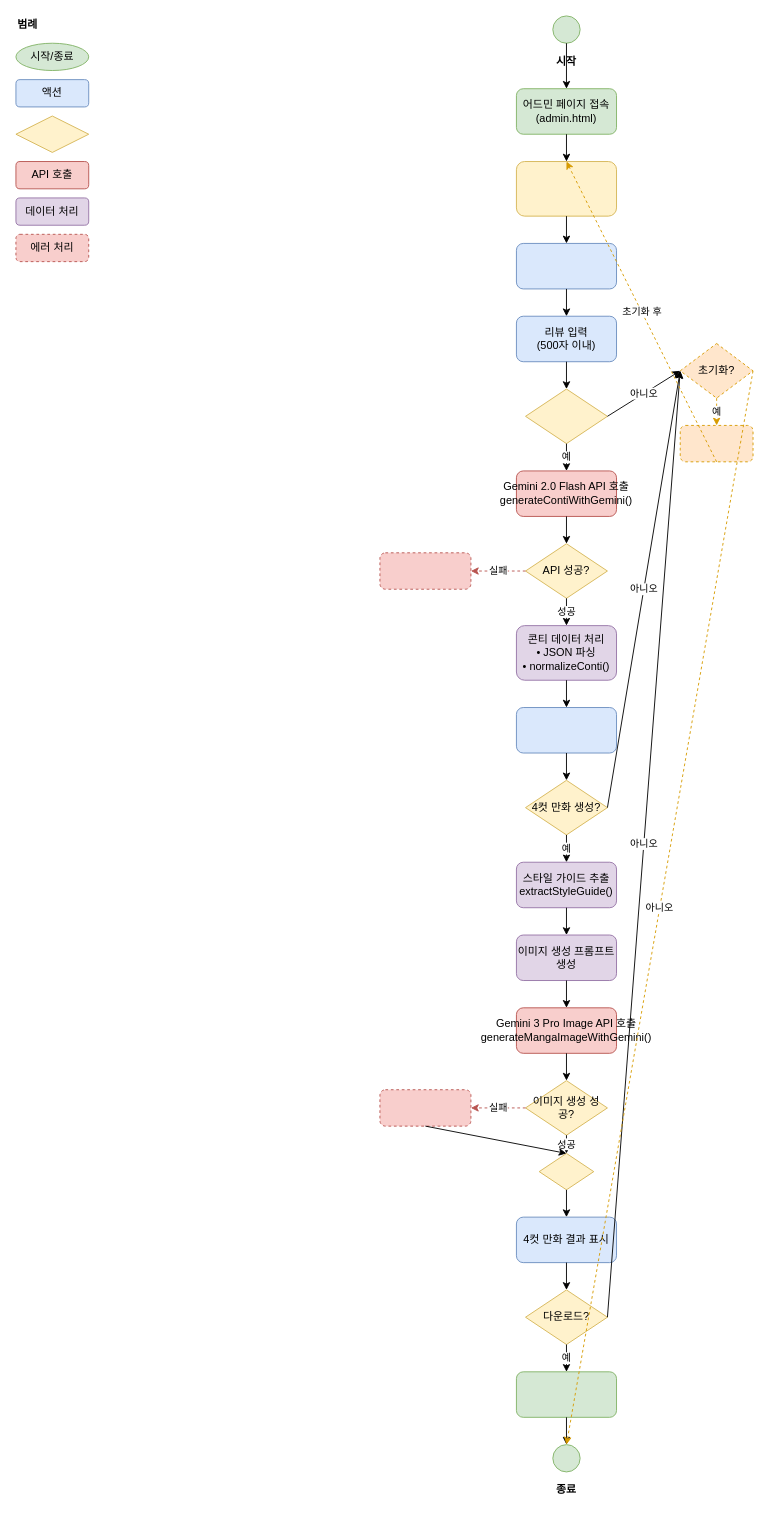
Image size: 776x1515. Some labels were removed from this diagram. The centre of each missing label's shape, as x and y in pixels:
PNG 파일 다운로드 downloadImage(): the point at 566,1394
결정: the point at 52,133
만화 종류 선택 • 여행 만화 • 일상 만화: the point at 566,188
모든 입력값 리셋: the point at 716,443
에러 메시지 표시: the point at 425,570
콘티 생성?: the point at 566,416
콘티 시스템 프롬프트 설정 (템플릿 자동 로드): the point at 566,266
콘티 확인 및 수정: the point at 566,730
플레이스홀더 이미지 표시: the point at 425,1107
